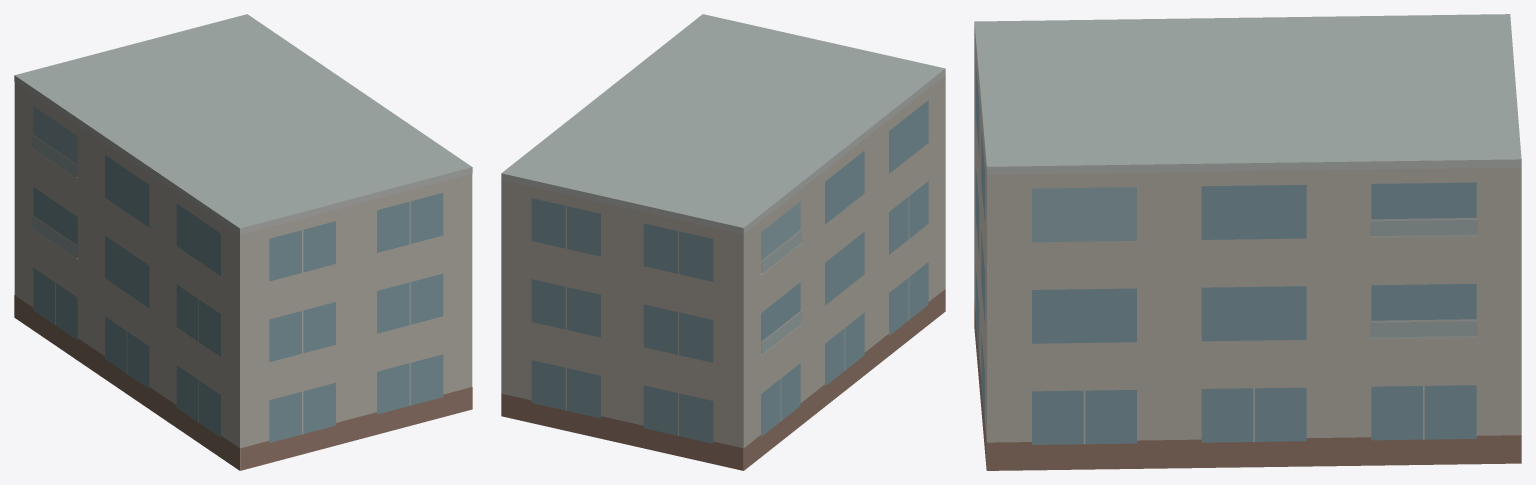
File: survey-upis-32706506.glb
The picture shows the model from 3 angles, left to right: view 1: azimuth 30°, elevation 25°; view 2: azimuth 150°, elevation 25°; view 3: azimuth 270°, elevation 25°; orthographic projection. The views are drawn at different scales.
Visible parts, largest first — view 1: survey-upis-32706506.tmp; view 2: survey-upis-32706506.tmp; view 3: survey-upis-32706506.tmp.
Boxes of the visible parts, left/top/right/bottom form: survey-upis-32706506.tmp: left=14, top=14, right=472, bottom=470; survey-upis-32706506.tmp: left=501, top=14, right=945, bottom=470; survey-upis-32706506.tmp: left=974, top=14, right=1521, bottom=470.
Bounding box in the file's own units: 9.87 × 9.15 × 14.93.
